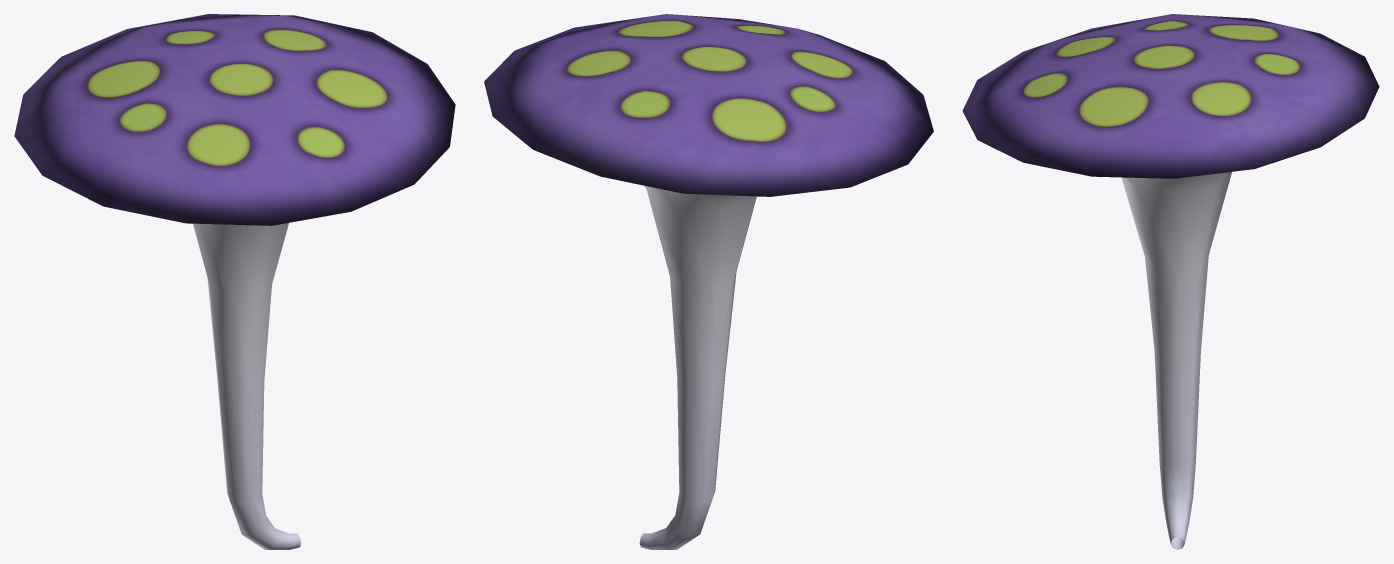
File: Mushroom_Curved3_Purple.fbx
3 renders of one model, left to right at view 1: azimuth 30°, elevation 25°; view 2: azimuth 150°, elevation 25°; view 3: azimuth 270°, elevation 25°, orthographic. The views are drawn at different scales.
Visible parts, largest first — view 1: Mesh; view 2: Mesh; view 3: Mesh.
Part boxes in pixels (<box>): Mesh: <box>14,14,455,549</box>; Mesh: <box>484,14,933,549</box>; Mesh: <box>962,14,1379,549</box>.
Bounding box in the file's own units: 166 × 202 × 164.
